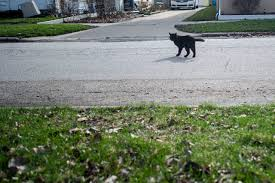cat: (168, 31, 205, 60)
